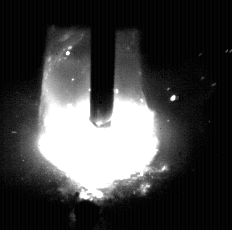arame: (91, 0, 115, 128)
poca: (38, 0, 158, 230)
